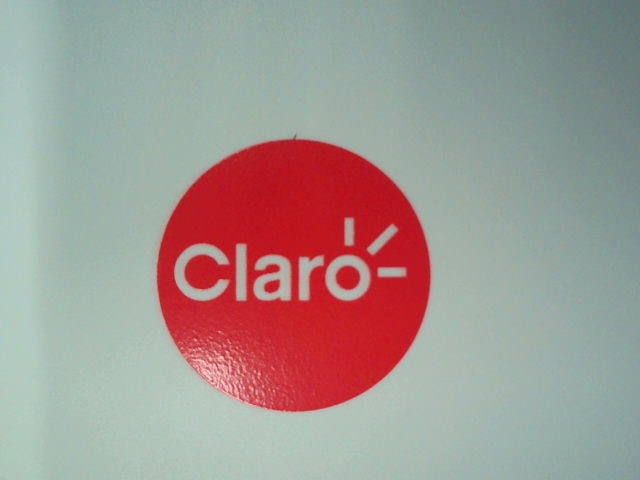BC_ClaorRed: (153, 132, 441, 415)
